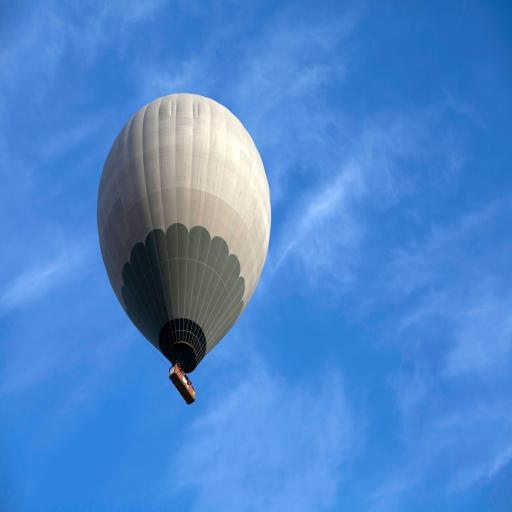hot air ballon: (96, 94, 272, 408)
